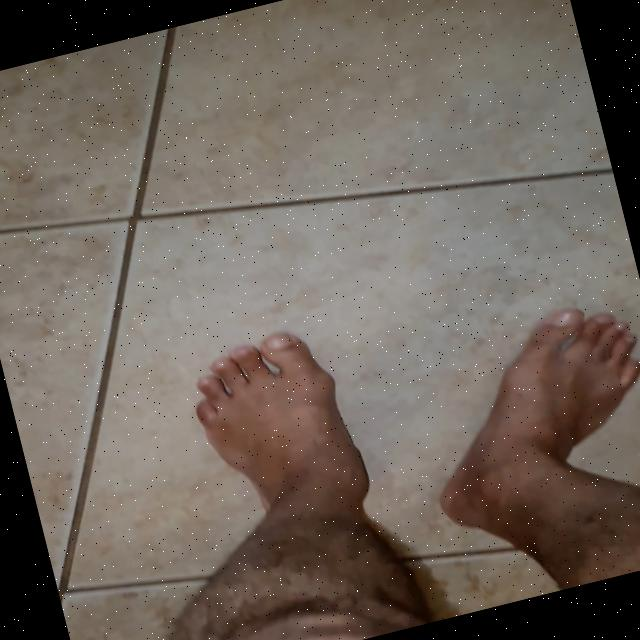no-boots: (164, 314, 416, 640), (399, 284, 640, 613)
